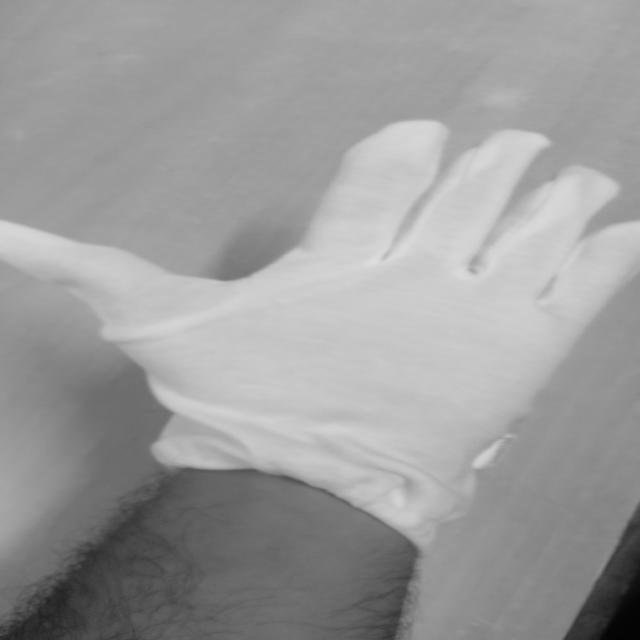Gloves: (10, 122, 640, 543)
